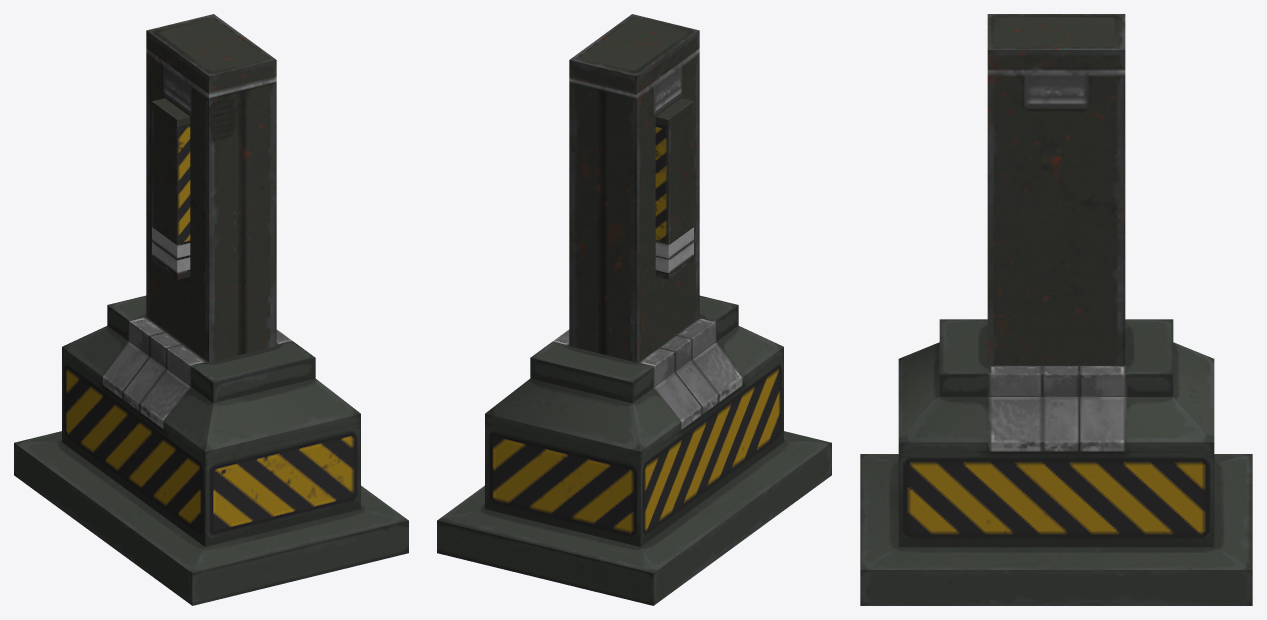
Rendered from CP_Bollard_Safety_02.fbx.
3 views of the same model, side by side, from view 1: azimuth 30°, elevation 25°; view 2: azimuth 150°, elevation 25°; view 3: azimuth 270°, elevation 25° (orthographic). The views are drawn at different scales.
Visible parts, largest first — view 1: CP_Bollard_Safety_02; view 2: CP_Bollard_Safety_02; view 3: CP_Bollard_Safety_02.
Part boxes in pixels (x1,y1,x2,y2): CP_Bollard_Safety_02: (14, 14, 408, 605); CP_Bollard_Safety_02: (437, 14, 831, 605); CP_Bollard_Safety_02: (860, 14, 1252, 605).
Size of the model in its own units: 49.6 by 103 by 70.81.
